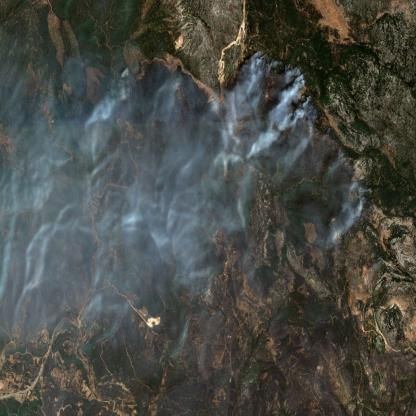fire: (82, 50, 190, 166), (237, 41, 322, 148)
